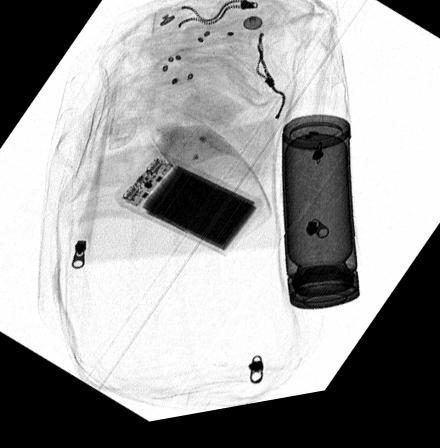Powerbank: (113, 153, 263, 264)
